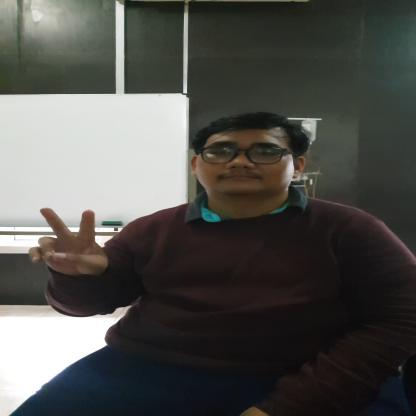V: (27, 206, 110, 276)
